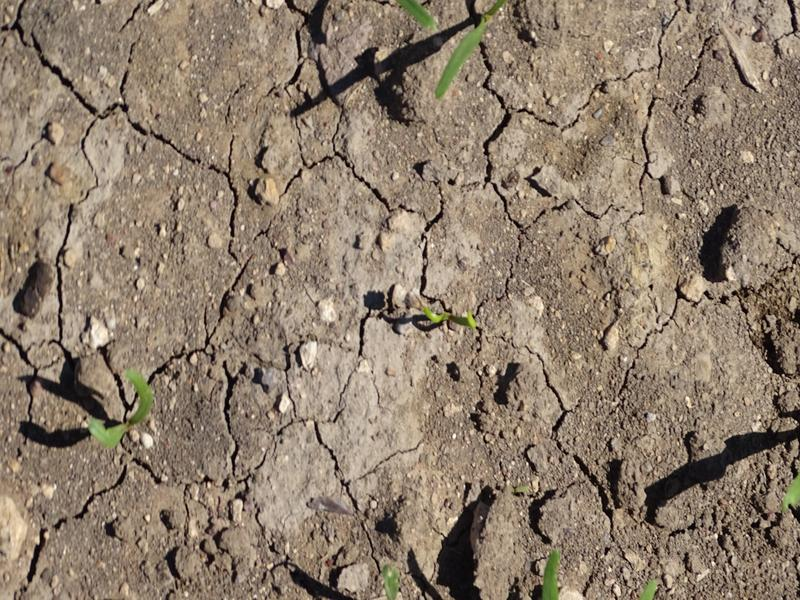Espinaca: (399, 1, 492, 92), (81, 369, 155, 459)
